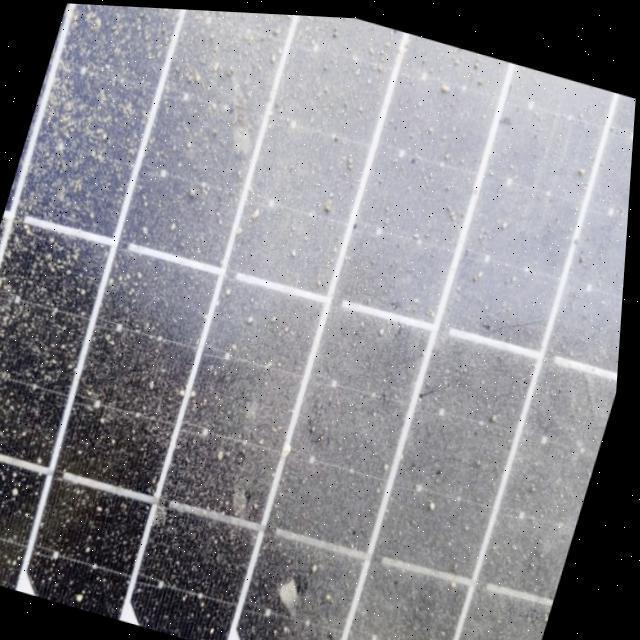Surface Contaminant: (0, 3, 635, 640)
